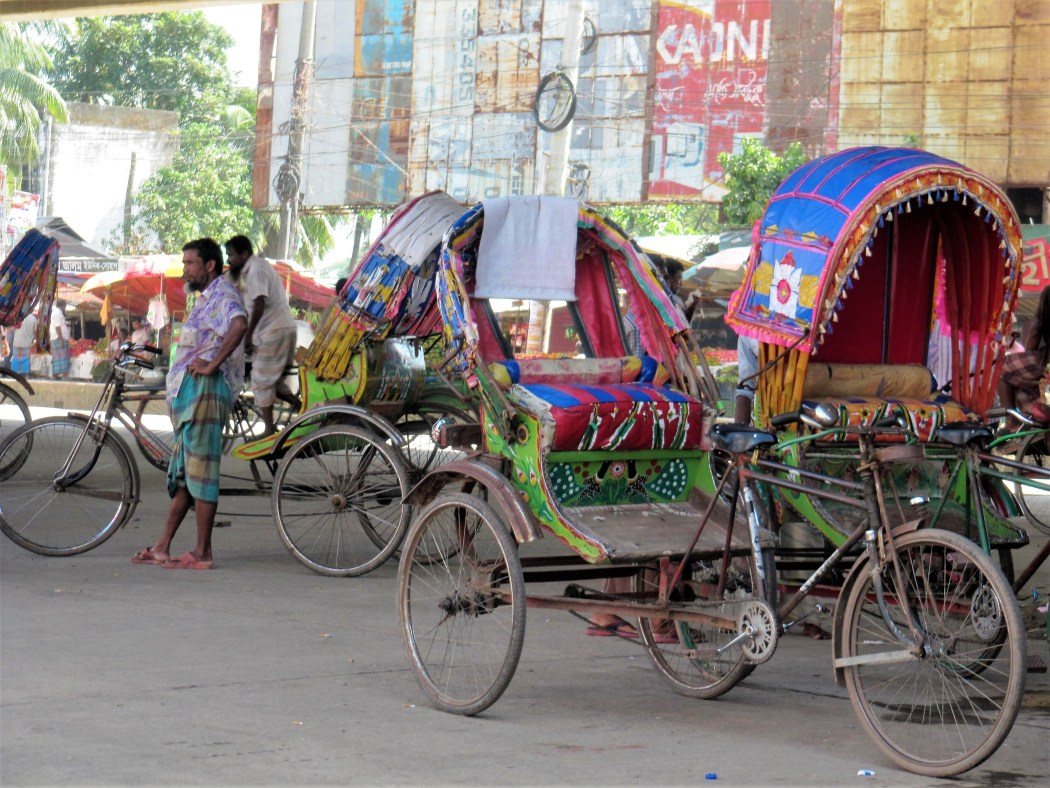Rickshaw: (452, 173, 1009, 784), (743, 122, 1047, 670), (62, 152, 452, 558)
